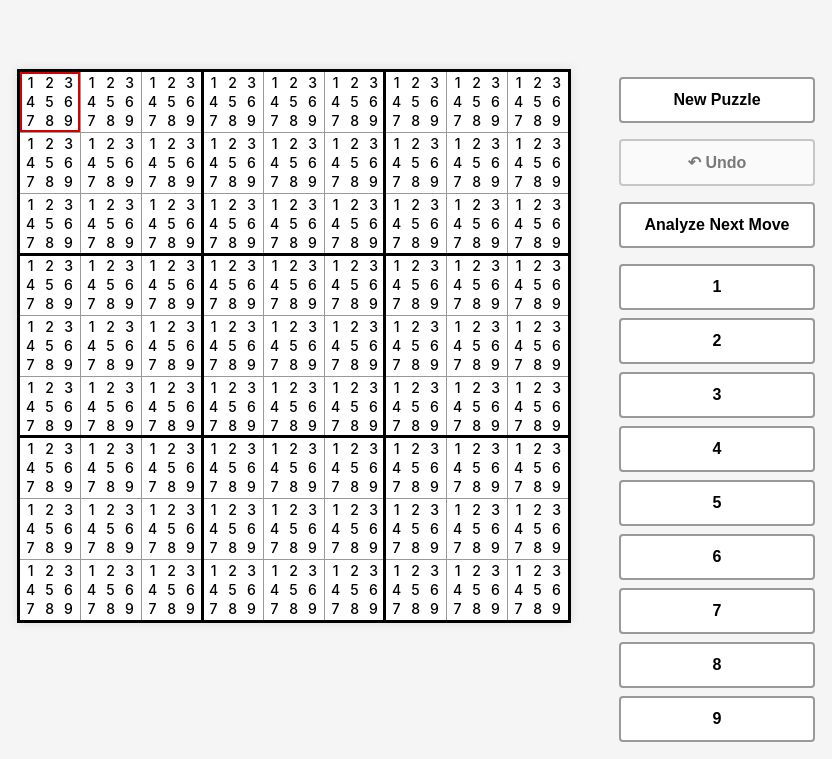
Test: App interactions › reports when no straightforward move is available
This screenshot has width=832, height=759.
Step 1. Click the button "Analyze Next Move" → (717, 225), box top-left (618, 202), bottom-right (815, 248)
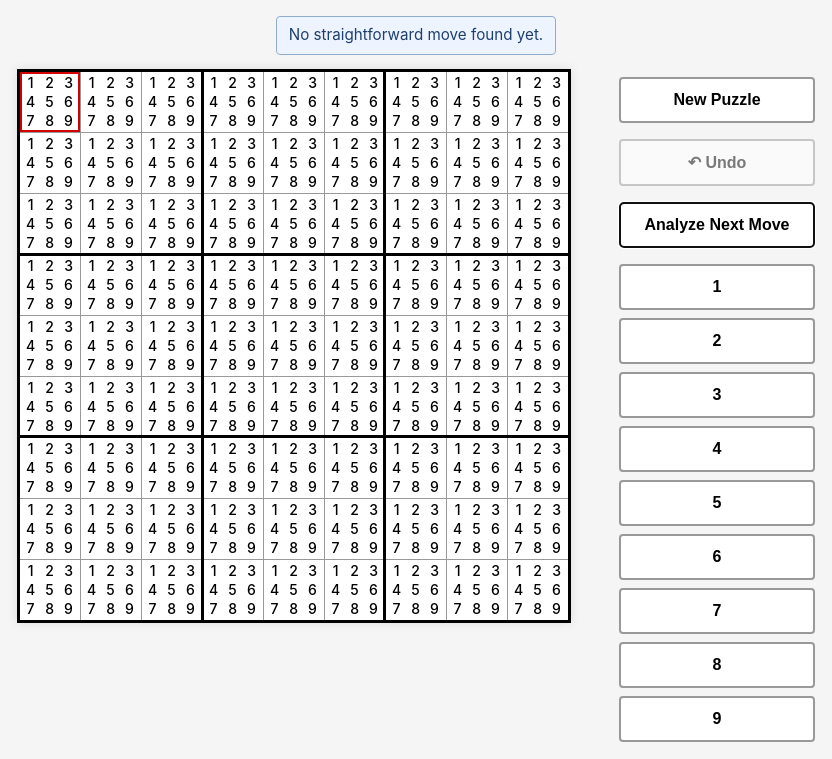
Now the text "No straightforward move found yet." is shown, box top-left (276, 16), bottom-right (556, 55)
Now the text with class "status-message" reads "No straightforward move found yet.", box top-left (289, 25), bottom-right (543, 44)
